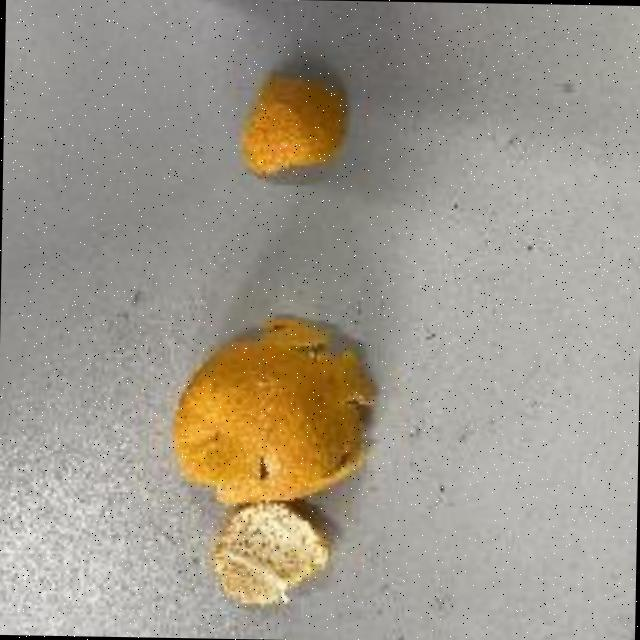orange-peel: (170, 310, 378, 507), (238, 68, 348, 180)
